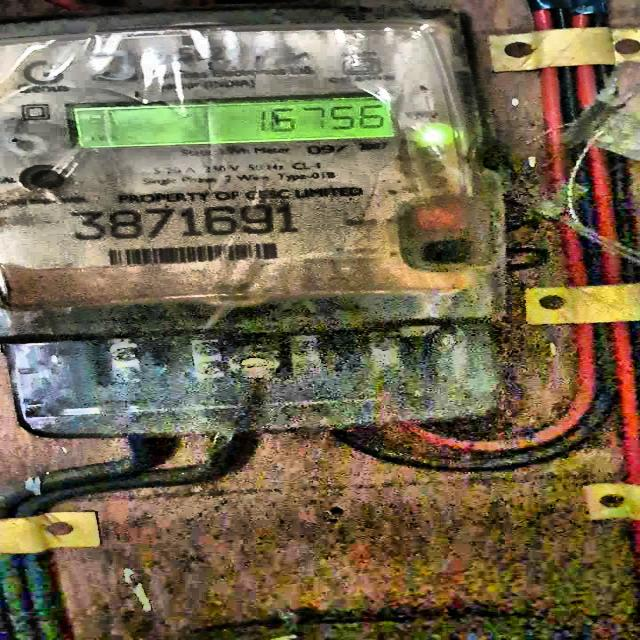Reading: (0, 21, 483, 326), (248, 103, 393, 137)
Serial No.: (70, 205, 299, 242)
